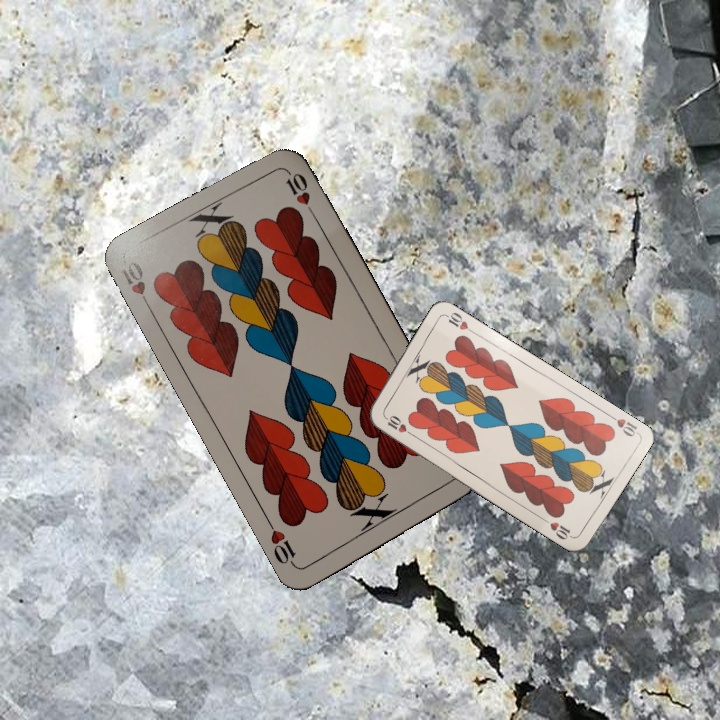H10: (118, 257, 155, 314), (604, 410, 640, 439), (380, 412, 416, 439)
